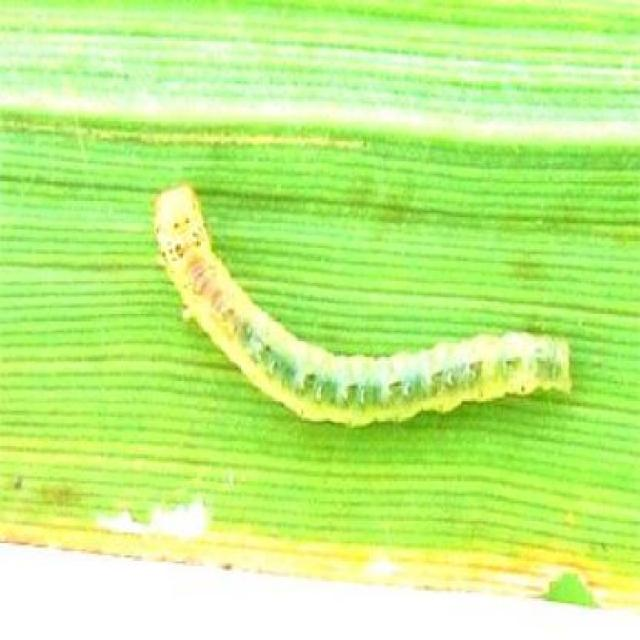leaf-folder: (139, 169, 590, 474)
